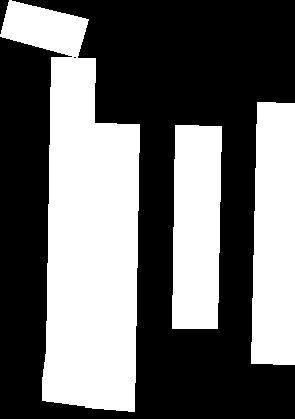parkingspot: (42, 57, 95, 406), (85, 123, 139, 411), (251, 102, 295, 364), (172, 125, 221, 328), (0, 0, 88, 57)
